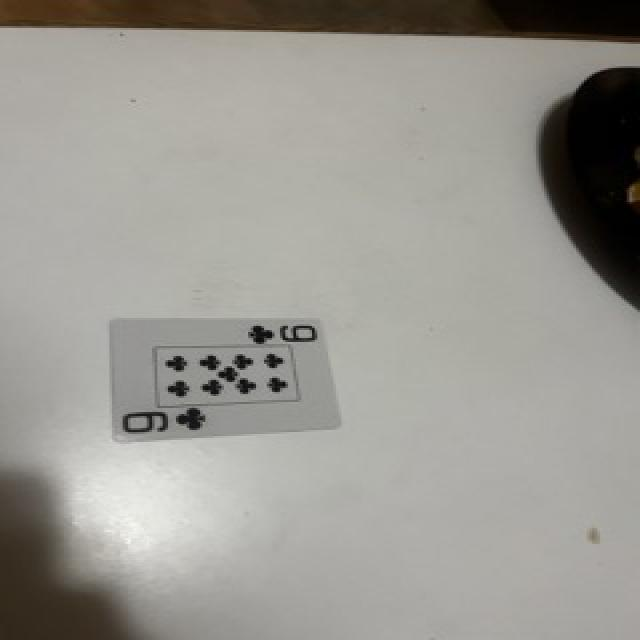9 of clubs: (112, 320, 340, 440)
